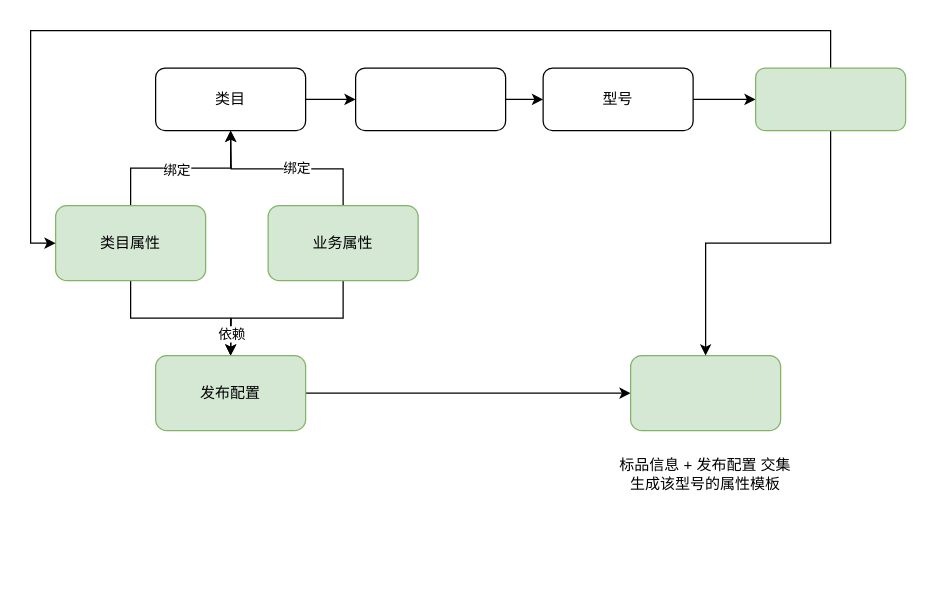
This 928x596 diagram has some shape labels left out. The shapes that lost their labels are listed below. From the top down, each one's centre as x and y in pixels, then its label:
At (x=430, y=99): "品牌".
At (x=830, y=99): "标品管理".
At (x=705, y=392): "发布模板".
